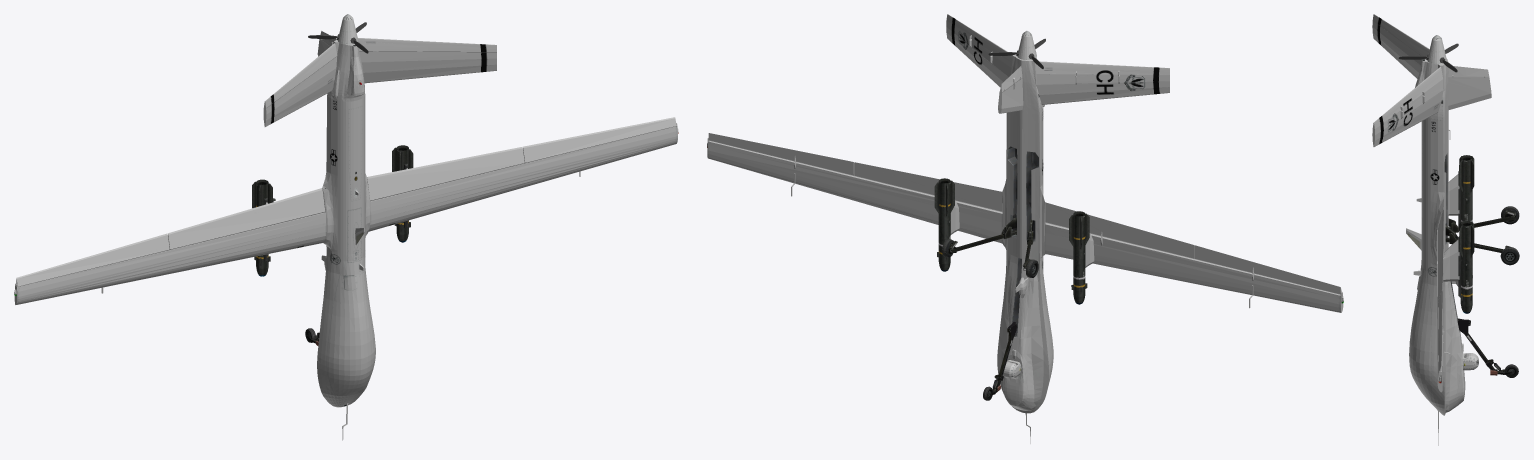
3 views of the same model, side by side, from view 1: azimuth 30°, elevation 25°; view 2: azimuth 150°, elevation 25°; view 3: azimuth 270°, elevation 25° (orthographic). The views are drawn at different scales.
Parts seen in each view (by area): view 1: Object.1, Object.3; view 2: Object.1, Object.3; view 3: Object.1, Object.2, Object.3.
Boxes of the visible parts, x1,y1,x2,y2 form: Object.1: (14, 31, 678, 440); Object.3: (308, 14, 368, 53); Object.1: (707, 14, 1343, 443); Object.3: (988, 31, 1045, 68); Object.1: (1372, 14, 1519, 445); Object.2: (1457, 318, 1518, 377); Object.3: (1398, 35, 1458, 72).
Size of the model in its own units: 116 by 71.85 by 23.19.
3 materials, 2 textured.
